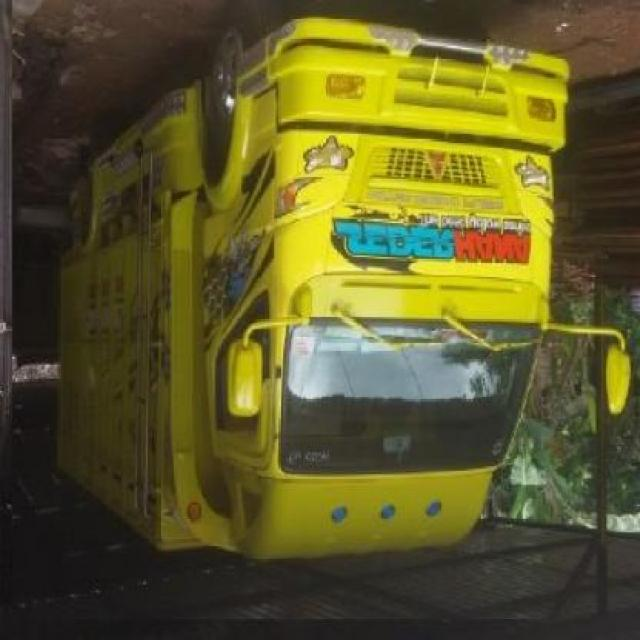truck: (64, 17, 627, 557)
